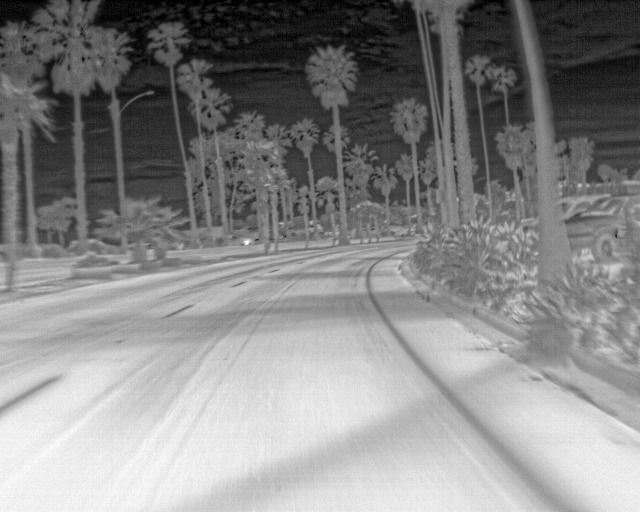car: (566, 195, 639, 263), (519, 195, 595, 230), (227, 233, 250, 246)
